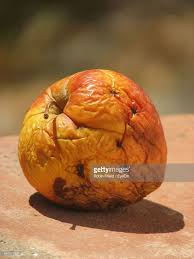damaged_apple: (22, 72, 175, 202)
